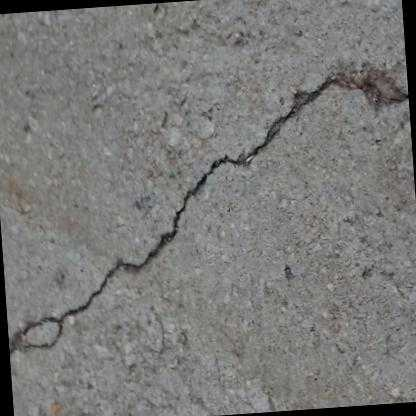crack: (9, 78, 409, 355)
